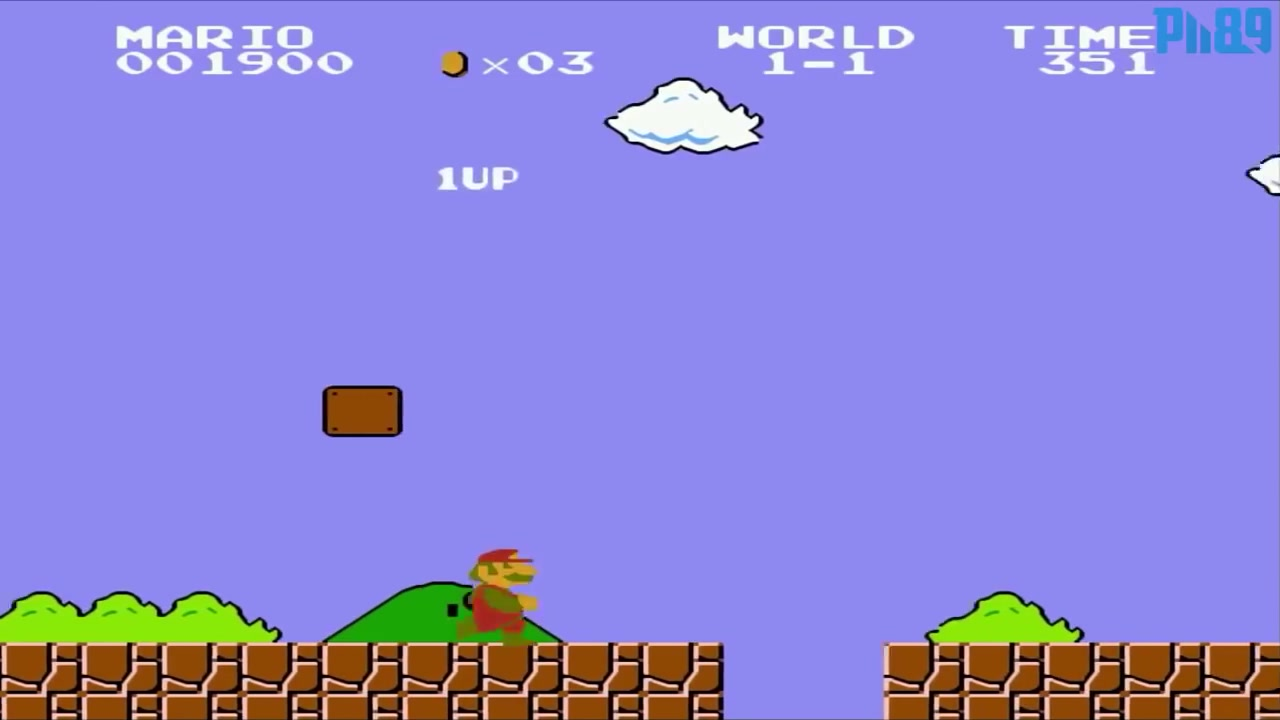mario: (439, 536, 539, 644)
